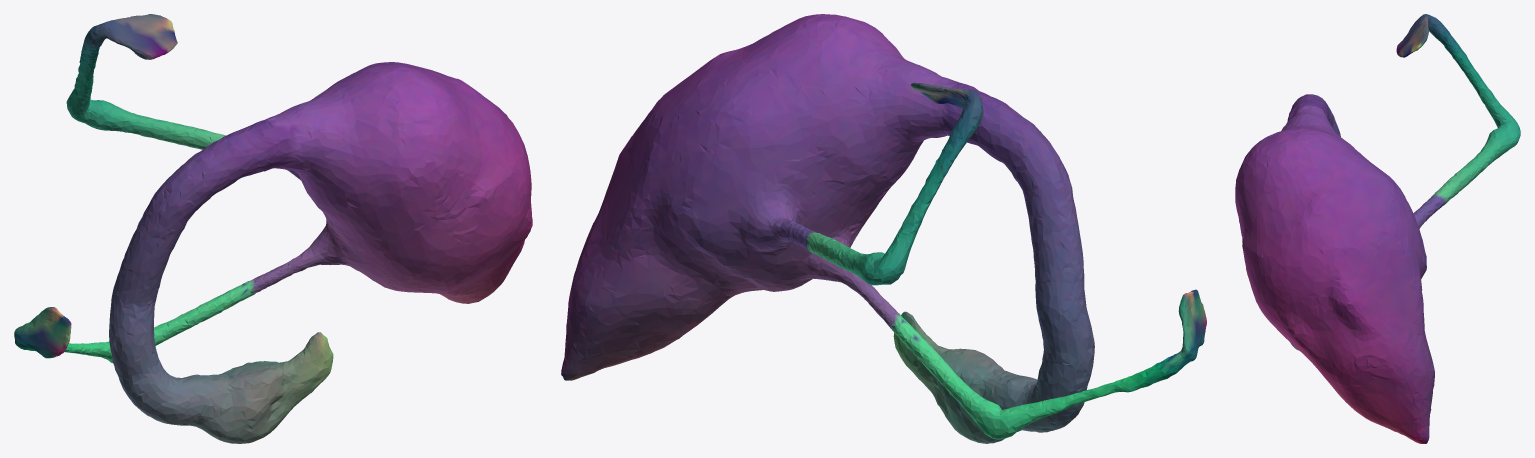
Rendered from flamingo-11.off.obj.
3 views of the same model, side by side, from view 1: azimuth 30°, elevation 25°; view 2: azimuth 150°, elevation 25°; view 3: azimuth 270°, elevation 25° (orthographic). The views are drawn at different scales.
Size of the model in its own units: 1.49 by 1.05 by 0.8753.
